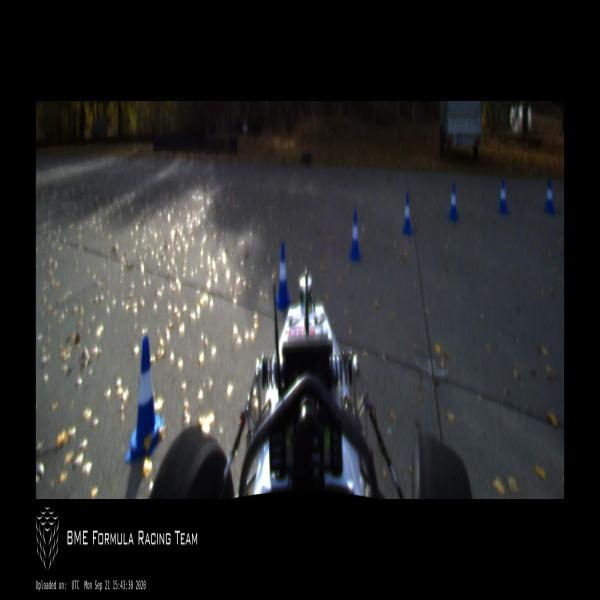blue_cone: (126, 336, 164, 463), (276, 242, 292, 312), (348, 210, 362, 260), (400, 192, 414, 235), (447, 183, 459, 221), (497, 177, 509, 214), (544, 179, 555, 213)
